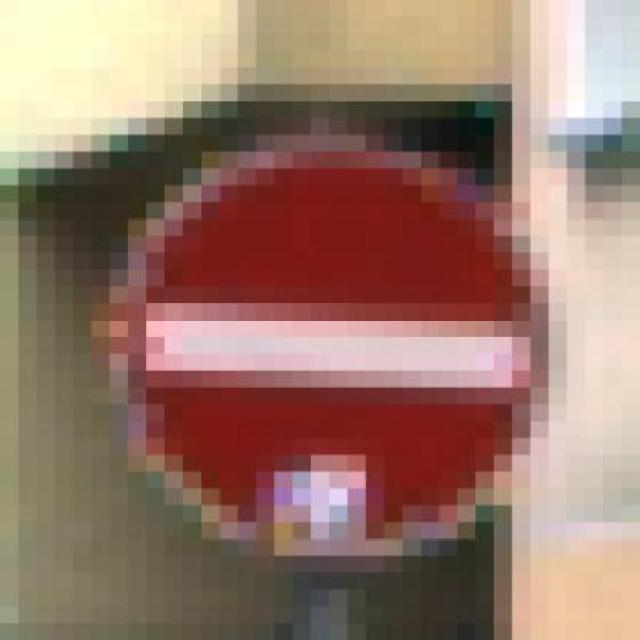B2: (109, 142, 537, 552)
